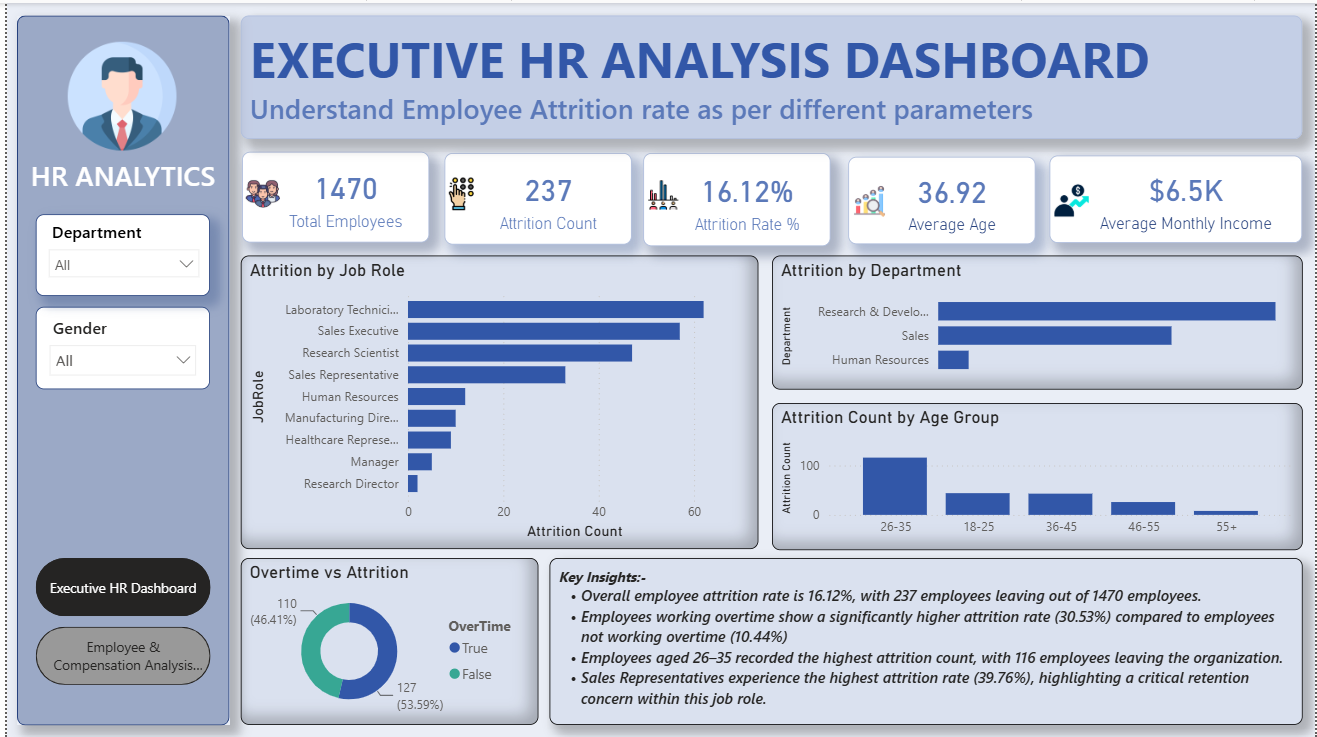

The dashboard page shown, as its layout file describes it:
{"tool":"powerbi","page":{"name":"Executive HR Dashboard","canvas":[1280,720],"ordinal":0},"visuals":[{"type":"shape","box":[9.8,12.2,207.9,694.6],"z":0},{"type":"card","fields":{"Values":["HR_ANALYTICS.Total Employees"]},"box":[229.6,145.9,183.3,89],"z":1000},{"type":"card","fields":{"Values":["HR_ANALYTICS.Attrition Count"]},"box":[428.1,146.5,183.5,89.6],"z":2000},{"type":"card","fields":{"Values":["HR_ANALYTICS.Attrition Rate %"]},"box":[622.9,146.5,183.5,91],"z":3000},{"type":"card","fields":{"Values":["HR_ANALYTICS.Average Age"]},"box":[823.5,150.8,183.5,85.3],"z":4000},{"type":"card","fields":{"Values":["HR_ANALYTICS.Average Monthly Income"]},"box":[1019.7,149.3,247.5,85.3],"z":5000},{"type":"clusteredBarChart","title":"Attrition by Department","fields":{"Category":["HR_ANALYTICS.Department"],"Y":["HR_ANALYTICS.Attrition Count"]},"box":[748.1,247.5,519.1,130.8],"z":6000},{"type":"clusteredBarChart","title":"Attrition by Job Role","fields":{"Category":["HR_ANALYTICS.JobRole"],"Y":["HR_ANALYTICS.Attrition Count"]},"box":[229,247.5,506.3,287.3],"z":7000},{"type":"donutChart","title":"Overtime vs Attrition","fields":{"Category":["HR_ANALYTICS.OverTime"],"Y":["HR_ANALYTICS.Attrition Count"]},"box":[229,543.3,291.6,163.6],"z":8000},{"type":"clusteredColumnChart","fields":{"Category":["HR_ANALYTICS.Age Group"],"Y":["HR_ANALYTICS.Attrition Count"]},"box":[748.1,391.1,519.1,143.6],"z":9000},{"type":"textbox","box":[229,12.8,1038.2,120.9],"z":10000},{"type":"slicer","fields":{"Values":["HR_ANALYTICS.Gender"]},"box":[28.4,297.2,170.7,81.1],"z":11000},{"type":"slicer","fields":{"Values":["HR_ANALYTICS.Department"]},"box":[28.4,206.2,170.7,79.6],"z":12000},{"type":"image","box":[229,167.8,38.4,38.4],"z":13000},{"type":"textbox","box":[10,145.1,207.6,51.2],"z":14000},{"type":"image","box":[428.1,167.8,32.7,38.4],"z":15000},{"type":"image","box":[622.9,163.6,34.1,48.4],"z":16000},{"type":"image","box":[823.5,172.1,37,42.7],"z":17000},{"type":"image","box":[1019.7,170.7,38.4,44.1],"z":18000},{"type":"pageNavigator","box":[28.1,542.9,171.2,126],"z":19000},{"type":"textbox","box":[530.5,543.3,736.7,163.6],"z":20000},{"type":"image","box":[54,38.4,118,106.7],"z":21000}]}

Visuals, with their boxes in screenshot pixels (x1, y1, x2, y2), scaled from the page's 1280x720 canvas onto the 1317x737 screenshot:
shape: pyautogui.locateOnScreen(10, 12, 224, 723)
card - HR_ANALYTICS.Total Employees: pyautogui.locateOnScreen(236, 149, 425, 240)
card - HR_ANALYTICS.Attrition Count: pyautogui.locateOnScreen(440, 150, 629, 242)
card - HR_ANALYTICS.Attrition Rate %: pyautogui.locateOnScreen(641, 150, 830, 243)
card - HR_ANALYTICS.Average Age: pyautogui.locateOnScreen(847, 154, 1036, 242)
card - HR_ANALYTICS.Average Monthly Income: pyautogui.locateOnScreen(1049, 153, 1304, 240)
"Attrition by Department" clusteredBarChart: pyautogui.locateOnScreen(770, 253, 1304, 387)
"Attrition by Job Role" clusteredBarChart: pyautogui.locateOnScreen(236, 253, 757, 547)
"Overtime vs Attrition" donutChart: pyautogui.locateOnScreen(236, 556, 536, 724)
clusteredColumnChart - HR_ANALYTICS.Age Group x HR_ANALYTICS.Attrition Count: pyautogui.locateOnScreen(770, 400, 1304, 547)
textbox: pyautogui.locateOnScreen(236, 13, 1304, 137)
slicer - HR_ANALYTICS.Gender: pyautogui.locateOnScreen(29, 304, 205, 387)
slicer - HR_ANALYTICS.Department: pyautogui.locateOnScreen(29, 211, 205, 293)
image: pyautogui.locateOnScreen(236, 172, 275, 211)
textbox: pyautogui.locateOnScreen(10, 149, 224, 201)
image: pyautogui.locateOnScreen(440, 172, 474, 211)
image: pyautogui.locateOnScreen(641, 167, 676, 217)
image: pyautogui.locateOnScreen(847, 176, 885, 220)
image: pyautogui.locateOnScreen(1049, 175, 1089, 220)
pageNavigator: pyautogui.locateOnScreen(29, 556, 205, 685)
textbox: pyautogui.locateOnScreen(546, 556, 1304, 724)
image: pyautogui.locateOnScreen(56, 39, 177, 149)
